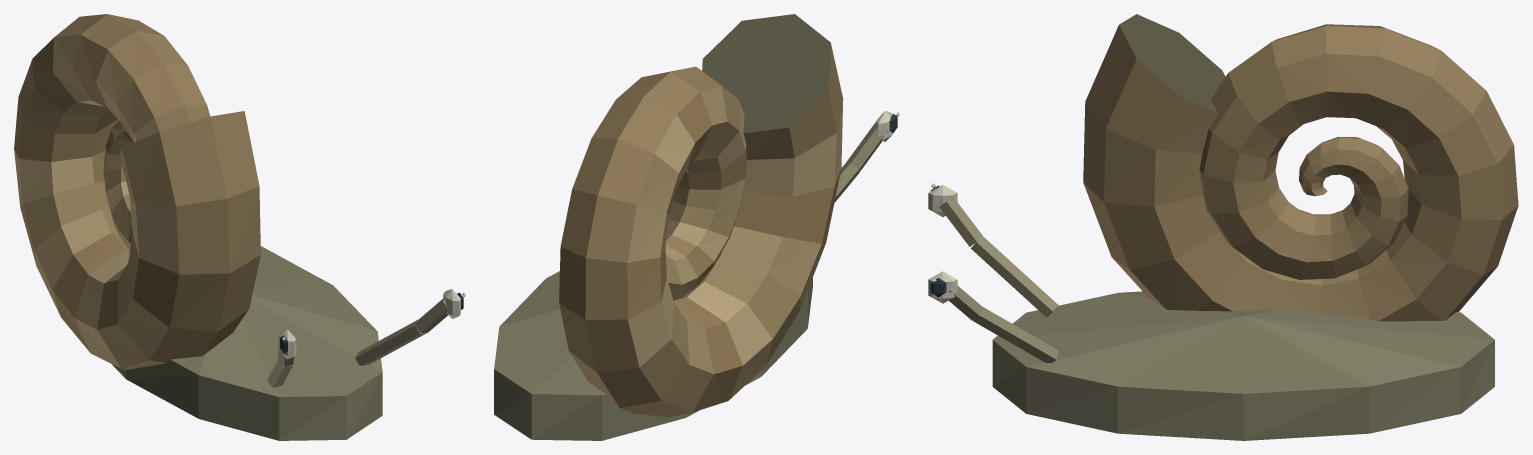
Rendered from river_snail.glb.
3 views of the same model, side by side, from view 1: azimuth 30°, elevation 25°; view 2: azimuth 150°, elevation 25°; view 3: azimuth 270°, elevation 25° (orthographic). The views are drawn at different scales.
Visible parts, largest first — view 1: shell; view 2: shell; view 3: shell.
Boxes of the visible parts, x1,y1,x2,y2 form: shell: (14, 14, 465, 440); shell: (494, 14, 899, 440); shell: (928, 14, 1518, 440).
Size of the model in its own units: 0.196 by 0.257 by 0.3865.
